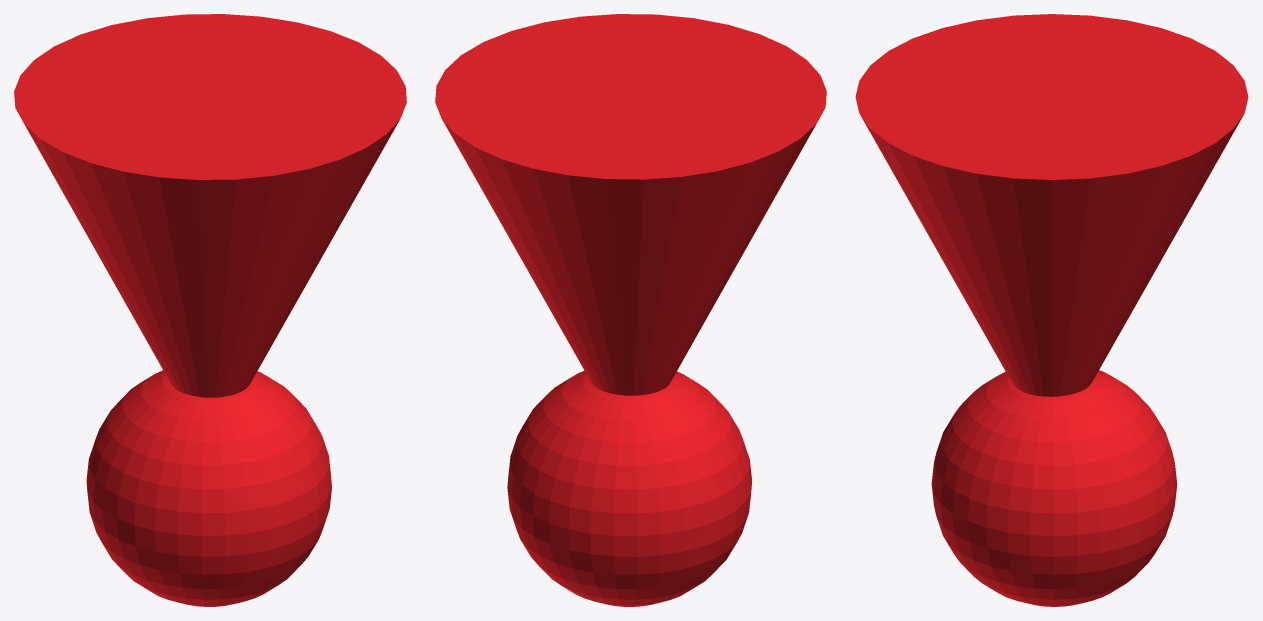
File: Beam_01.fbx
3 views of the same model, side by side, from view 1: azimuth 30°, elevation 25°; view 2: azimuth 150°, elevation 25°; view 3: azimuth 270°, elevation 25° (orthographic).
Visible parts, largest first — view 1: 球; view 2: 球; view 3: 球.
Boxes of the visible parts, x1,y1,x2,y2 form: 球: (14,14,406,606); 球: (435,14,826,606); 球: (855,14,1248,606).
Size of the model in its own units: 3.2 by 4.48 by 3.2.
Materials: 1 (1 with a texture image).
